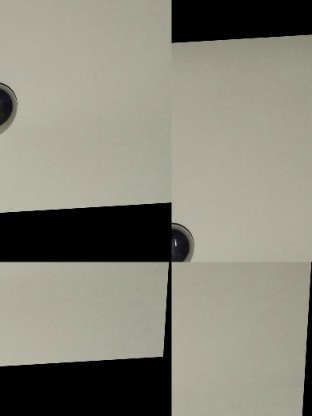ironball: (170, 219, 195, 261), (0, 80, 18, 135)
